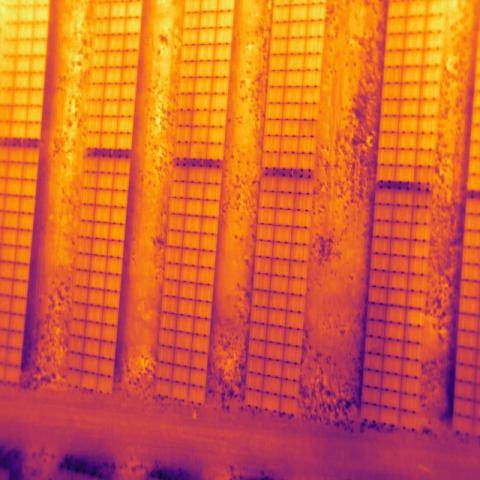fault: (407, 310, 422, 326)
